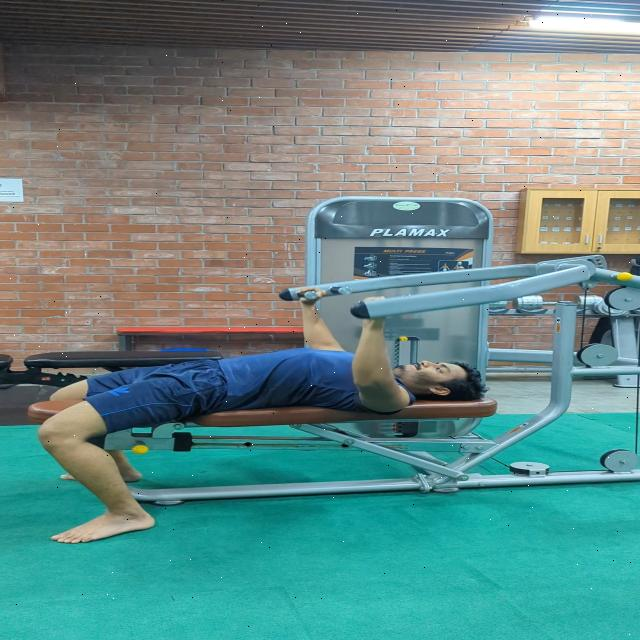Normal_BrenchPress: (20, 298, 555, 550)
